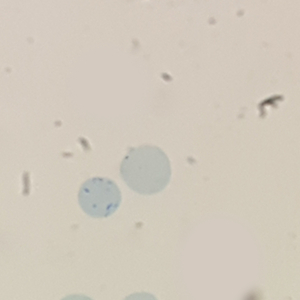aggregate reticulocyte: (75, 176, 123, 220)
erythrocyte: (118, 143, 174, 197)
